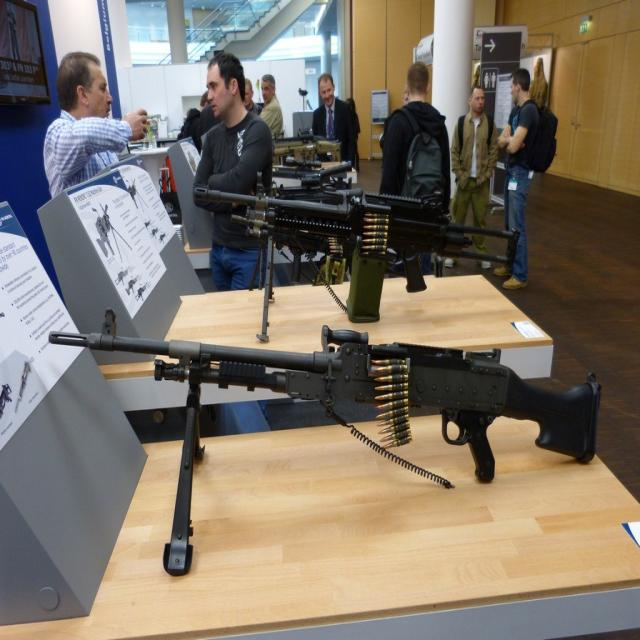firearm: (48, 310, 603, 580), (193, 170, 522, 344), (90, 201, 134, 265), (272, 125, 342, 163)
